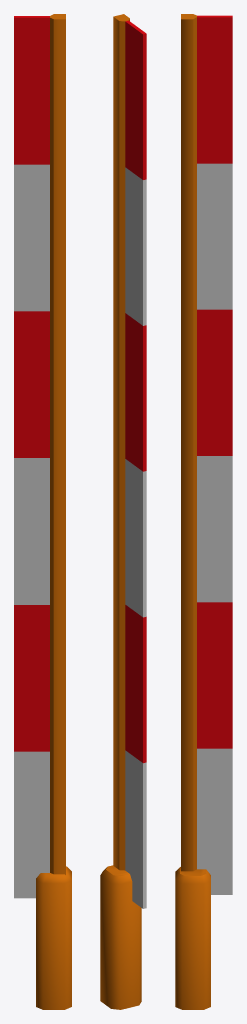
File: Slagboom.fbx
3 views of the same model, side by side, from view 1: azimuth 90°, elevation 25°; view 2: azimuth 210°, elevation 25°; view 3: azimuth 270°, elevation 25° (orthographic).
Visible parts, largest first — view 1: Cube.012, Cube.011, Cube.010, Cube.009; view 2: Cube.012, Cube.011, Cube.010, Cube.009; view 3: Cube.012, Cube.011, Cube.010, Cube.009.
Part boxes in pixels (left/top/right/bottom): Cube.012: left=14, top=14, right=65, bottom=312; Cube.011: left=14, top=311, right=65, bottom=606; Cube.010: left=14, top=605, right=65, bottom=898; Cube.009: left=36, top=866, right=71, bottom=1009; Cube.012: left=113, top=14, right=146, bottom=325; Cube.011: left=113, top=308, right=146, bottom=617; Cube.010: left=113, top=600, right=146, bottom=908; Cube.009: left=100, top=865, right=141, bottom=1009; Cube.012: left=181, top=14, right=232, bottom=311; Cube.011: left=181, top=309, right=232, bottom=604; Cube.010: left=181, top=602, right=232, bottom=894; Cube.009: left=175, top=867, right=210, bottom=1009.
Bounding box in the file's own units: 577 × 17559 × 930.
